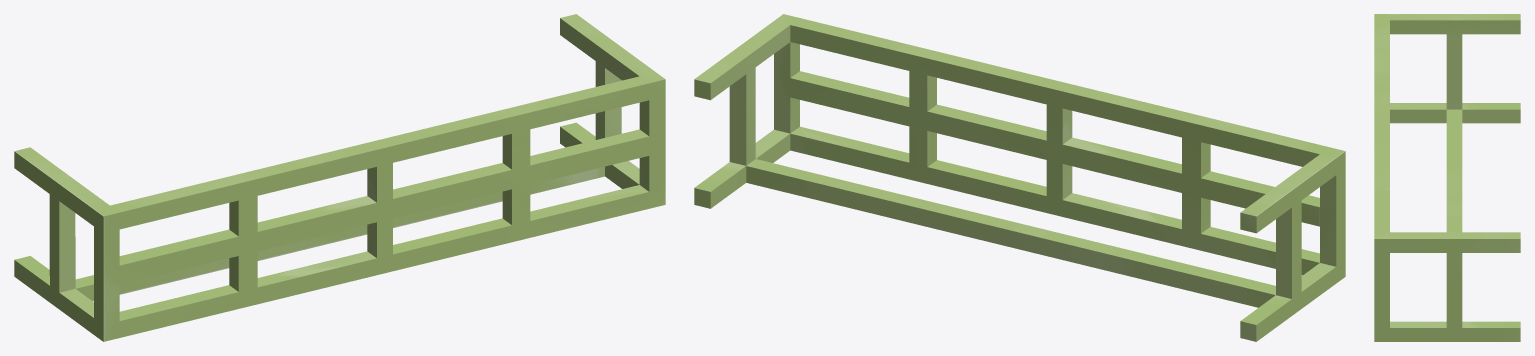
File: GridBottom.glb
3 renders of one model, left to right at view 1: azimuth 30°, elevation 25°; view 2: azimuth 150°, elevation 25°; view 3: azimuth 270°, elevation 25°, orthographic. The views are drawn at different scales.
Visible parts, largest first — view 1: GridBottom; view 2: GridBottom; view 3: GridBottom.
Boxes of the visible parts, x1=… form: GridBottom: x1=14, y1=14, x2=665, y2=341; GridBottom: x1=694, y1=14, x2=1345, y2=341; GridBottom: x1=1374, y1=14, x2=1520, y2=341.
Bounding box in the file's own units: 2.44 × 0.5201 × 0.6712.
Materials: 1 (1 with a texture image).
